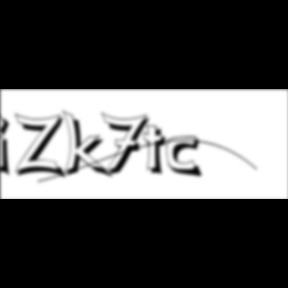7: (100, 111, 156, 179)
Z: (15, 112, 70, 181)
c: (167, 136, 207, 180)
i: (1, 112, 18, 180)
k: (62, 108, 116, 181)
t: (143, 124, 174, 179)
